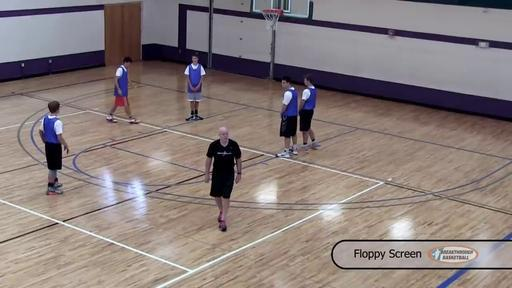human: (204, 126, 242, 232), (39, 100, 70, 196), (106, 57, 140, 125), (276, 76, 298, 158), (300, 74, 320, 150), (184, 56, 206, 122)
rim: (261, 9, 284, 29)
